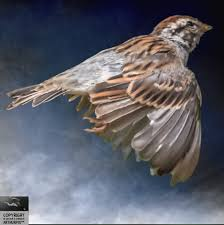hsparrow: (6, 10, 217, 190)
